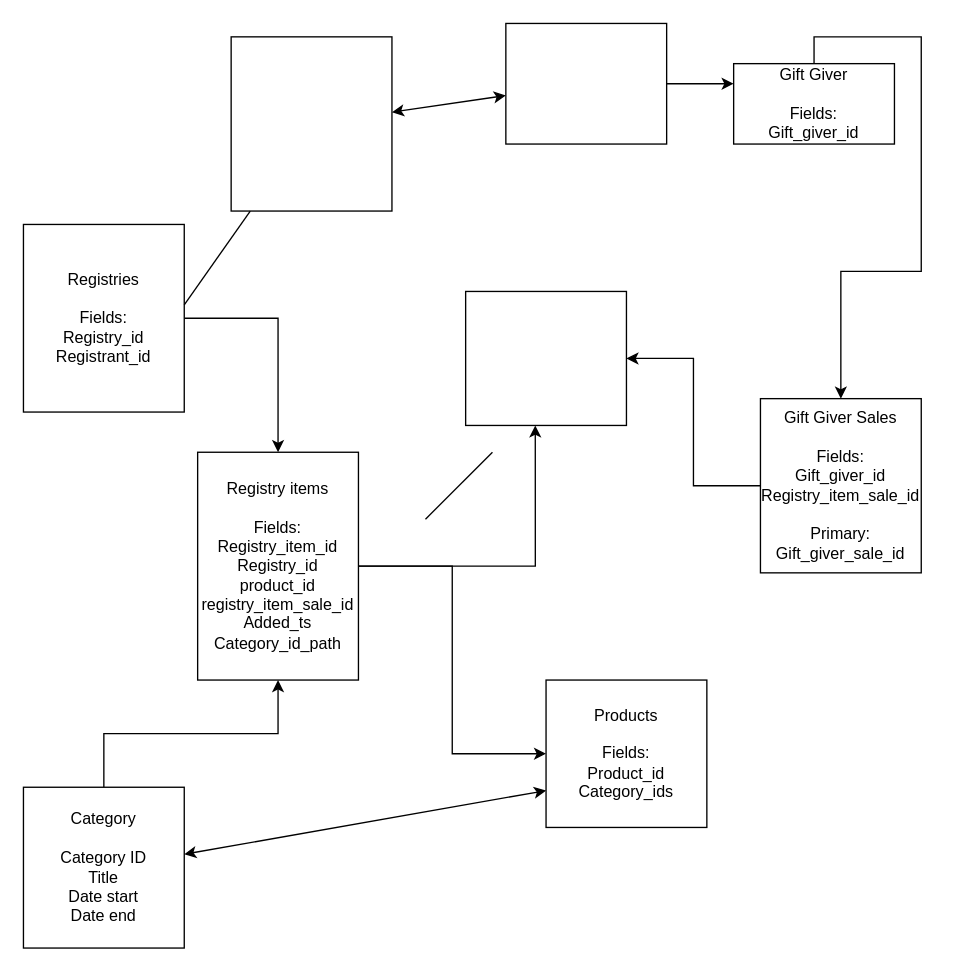
Some shapes in this 955 by 972 pixel diagram are drawn without their labels. Here are the shapes that lost their labels. From the top down, the centre of each, then its label:
At pixel 586 83: "Users Fields: User_id registrant_id Gift_giver_id".
At pixel 311 123: "Registrants Fields: Registrant_id".
At pixel 545 357: "Registry_item_sales Feids: Registry_item_sale_id Registry_item_id".
